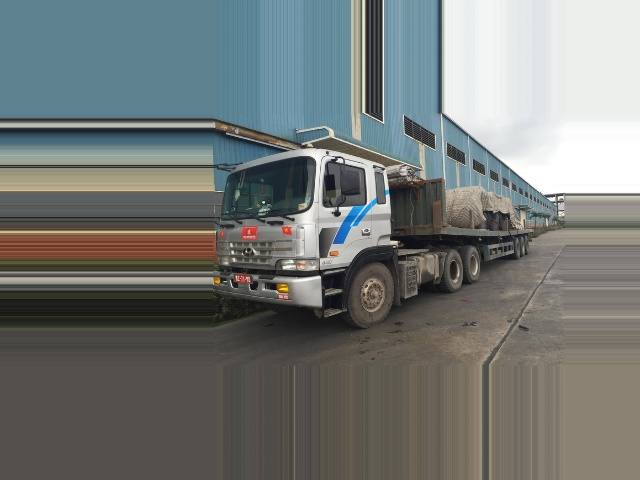plate: (231, 272, 253, 283)
